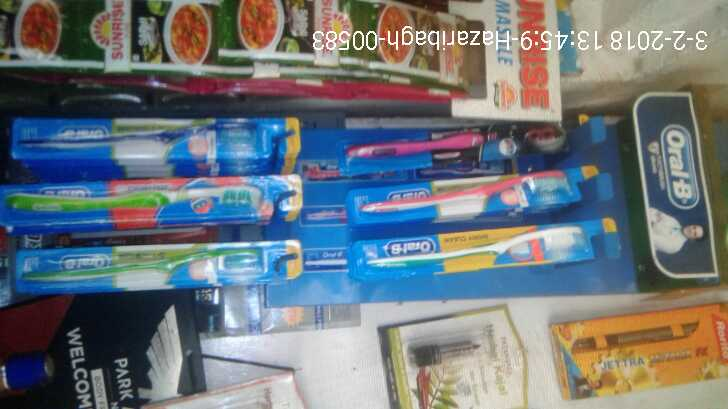oralb: (18, 120, 288, 166), (16, 245, 284, 291), (357, 220, 607, 268), (345, 107, 574, 157), (357, 170, 584, 214), (10, 185, 284, 220)
